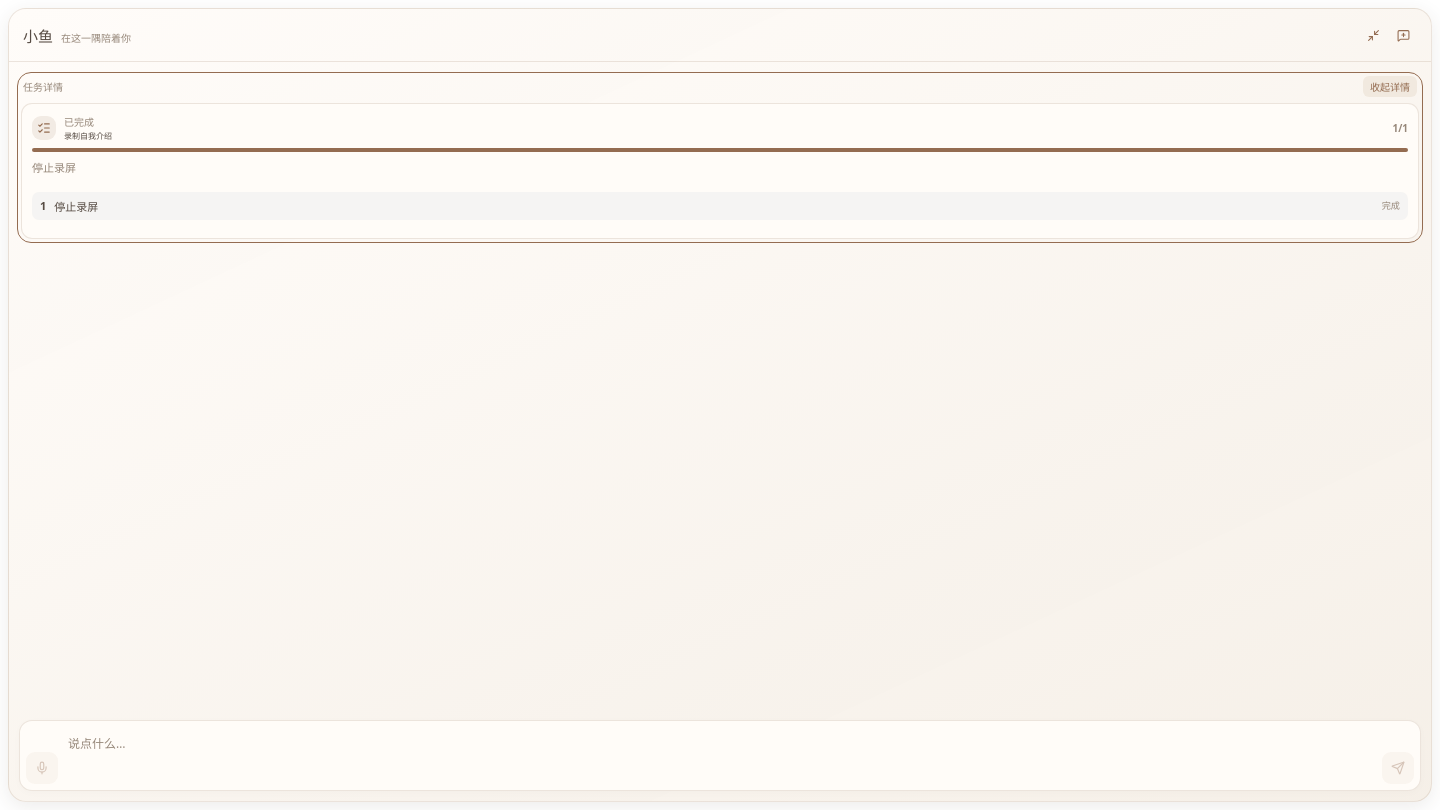
Test case: lightweight conversation › shows a completed result only on explicit detail request, and supports dismiss and ordinary reopen
This screenshot has width=1440, height=810.
Expected: the text "录制自我介绍" is shown, [64, 130, 112, 141]
Click the button "收起详情". click: click(1390, 86)
box: [1363, 76, 1417, 97]
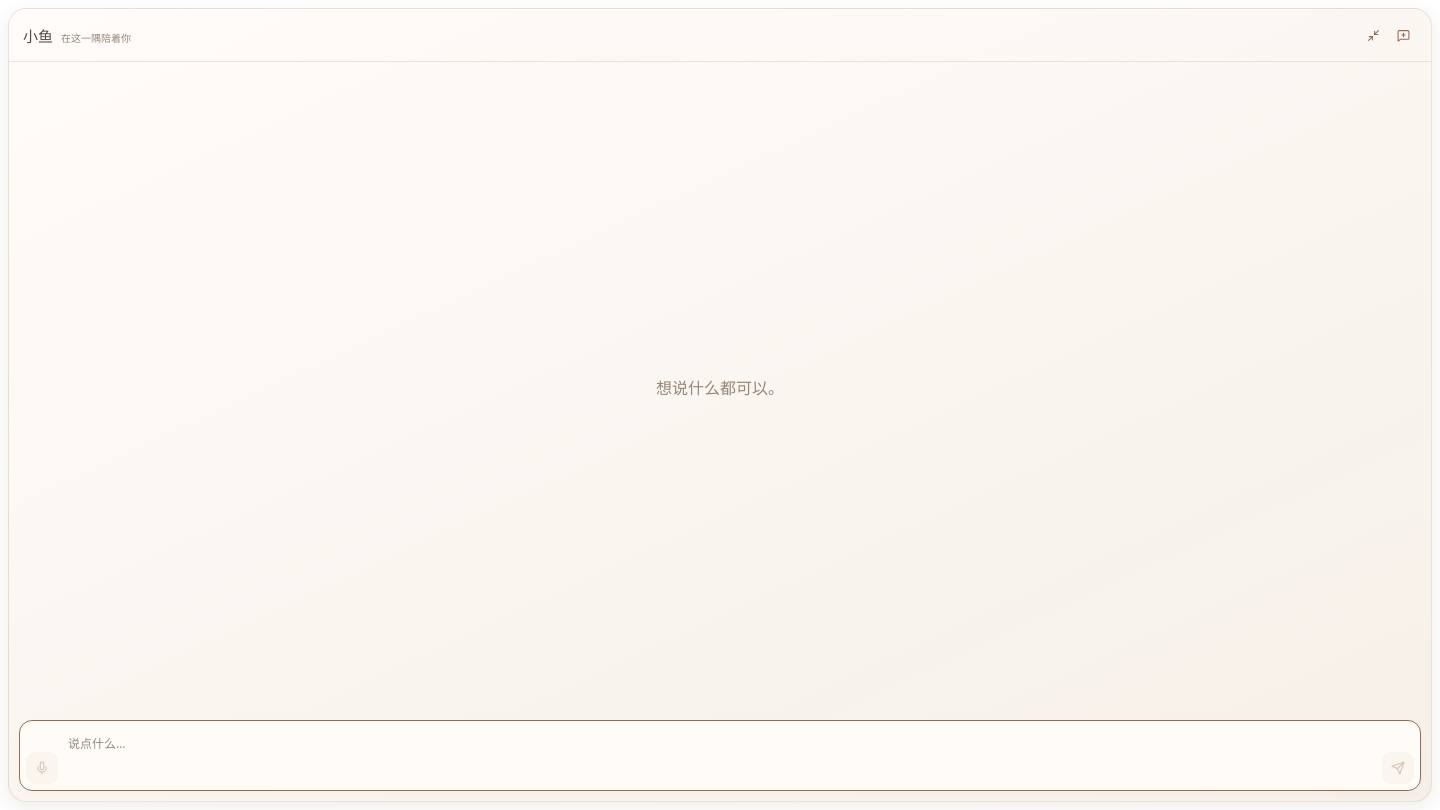
Expected: the text "录制自我介绍" is gone
